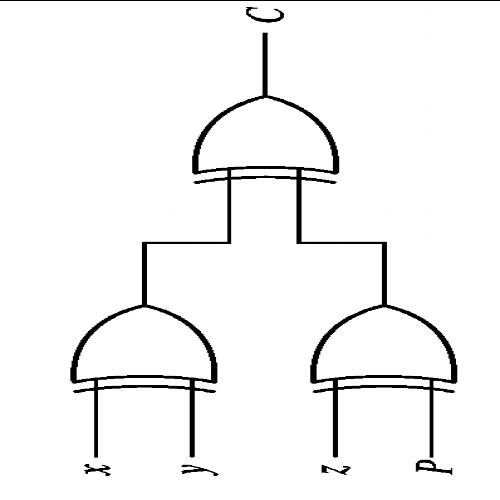xor: (43, 286, 240, 413), (170, 83, 364, 198), (290, 292, 477, 411)
